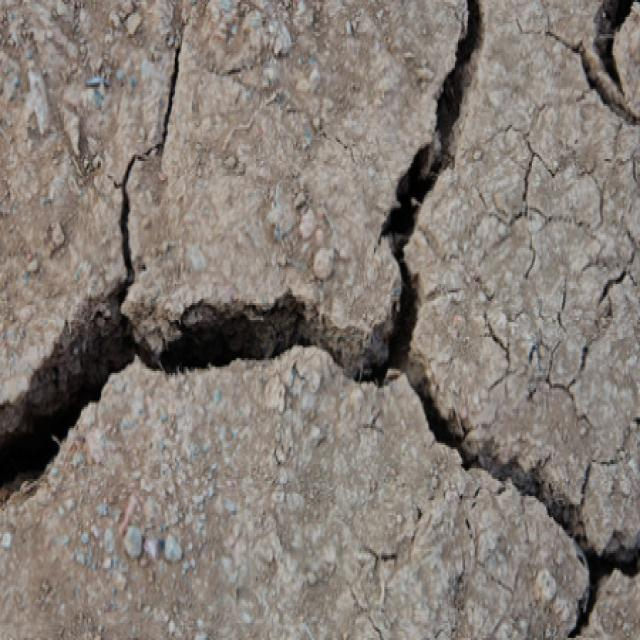branched cracks: (115, 33, 181, 286), (541, 229, 637, 399), (545, 30, 639, 124), (571, 0, 639, 124), (508, 140, 558, 228), (484, 311, 509, 367), (581, 171, 604, 230), (522, 229, 538, 279), (554, 280, 566, 339), (581, 254, 608, 272), (559, 215, 589, 228)
